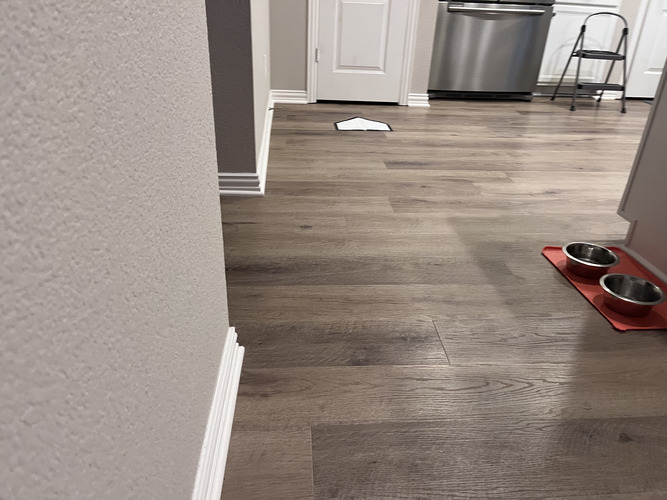homeplate: (333, 116, 391, 131)
